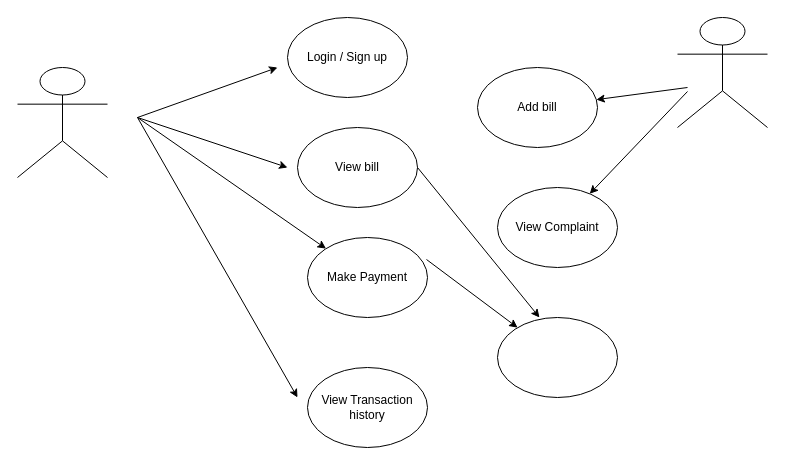
This 785x465 diagram has some shape labels left out. The shapes that lost their labels are listed below. From the top down, each one's centre as x and y in pixels, then its label:
At (x=722, y=72): "Admi n".
At (x=62, y=122): "User".
At (x=557, y=357): "Place complaint".
